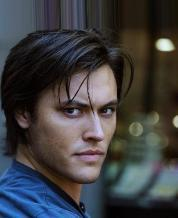face: (63, 100, 114, 164)
